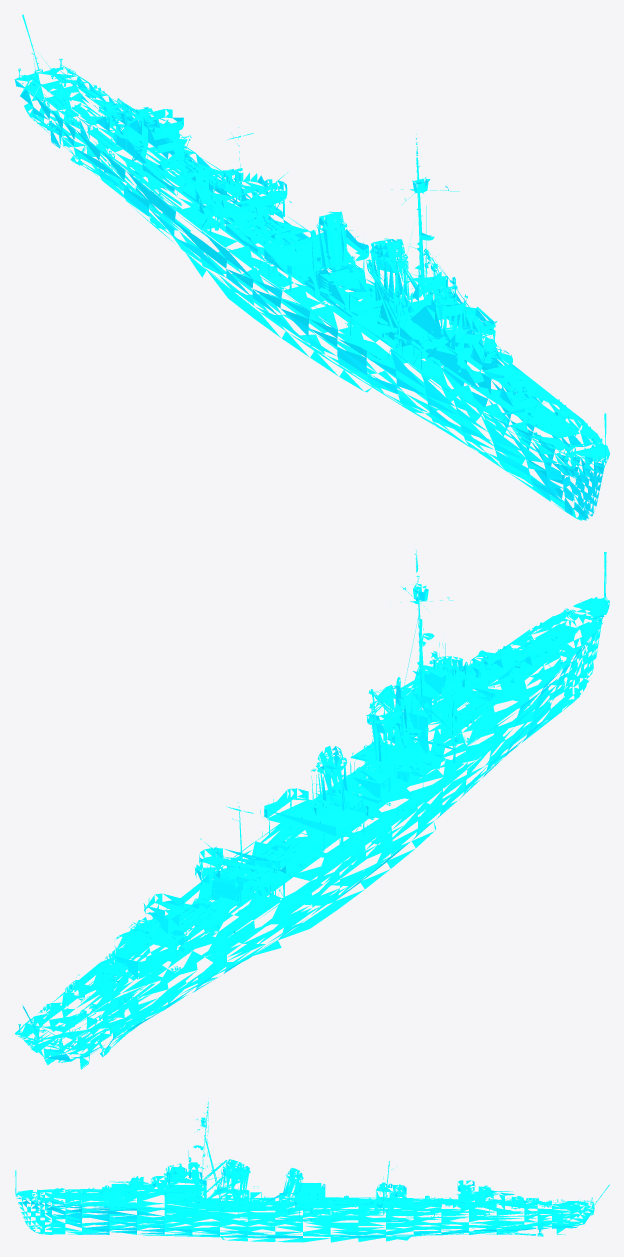
The model's file is PGSD516.glb.
3 views of the same model, one above another, from view 1: azimuth 30°, elevation 25°; view 2: azimuth 150°, elevation 25°; view 3: azimuth 270°, elevation 25° (orthographic). The views are drawn at different scales.
Visible parts, largest first — view 1: hull_mid, hull_bow, hull_stern, main_battery, torpedo; view 2: hull_mid, hull_bow, hull_stern, main_battery, torpedo; view 3: hull_mid, hull_bow, hull_stern, main_battery, torpedo.
Boxes of the visible parts, bbox=[...] form: hull_mid: bbox=[98, 100, 522, 451]; hull_bow: bbox=[450, 372, 609, 520]; hull_stern: bbox=[14, 14, 168, 191]; main_battery: bbox=[85, 95, 542, 409]; torpedo: bbox=[166, 157, 297, 247]; hull_mid: bbox=[101, 549, 523, 1022]; hull_bow: bbox=[462, 552, 609, 765]; hull_stern: bbox=[15, 962, 168, 1069]; main_battery: bbox=[85, 639, 542, 994]; torpedo: bbox=[179, 837, 305, 931]; hull_mid: bbox=[111, 1098, 514, 1242]; hull_bow: bbox=[14, 1170, 137, 1234]; hull_stern: bbox=[496, 1184, 609, 1236]; main_battery: bbox=[80, 1176, 542, 1209]; torpedo: bbox=[330, 1195, 453, 1207].
Size of the model in its own units: 0.8253 by 2.22 by 8.81.
